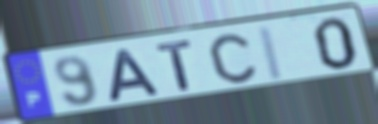0: (311, 16, 361, 71)
9: (52, 54, 102, 109)
A: (105, 47, 164, 104)
C: (206, 32, 259, 85)
I: (255, 23, 287, 84)
T: (154, 38, 196, 93)
